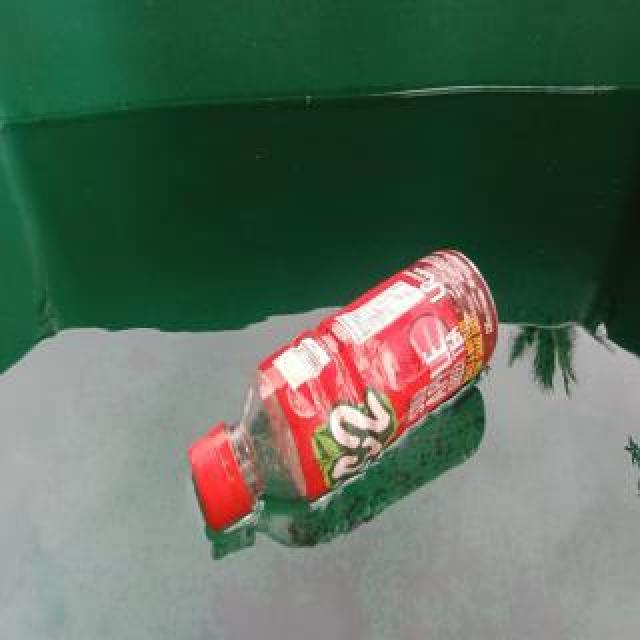bottle: (186, 236, 508, 558)
